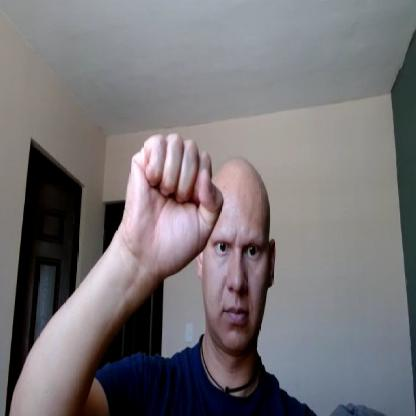S: (123, 135, 225, 277)
